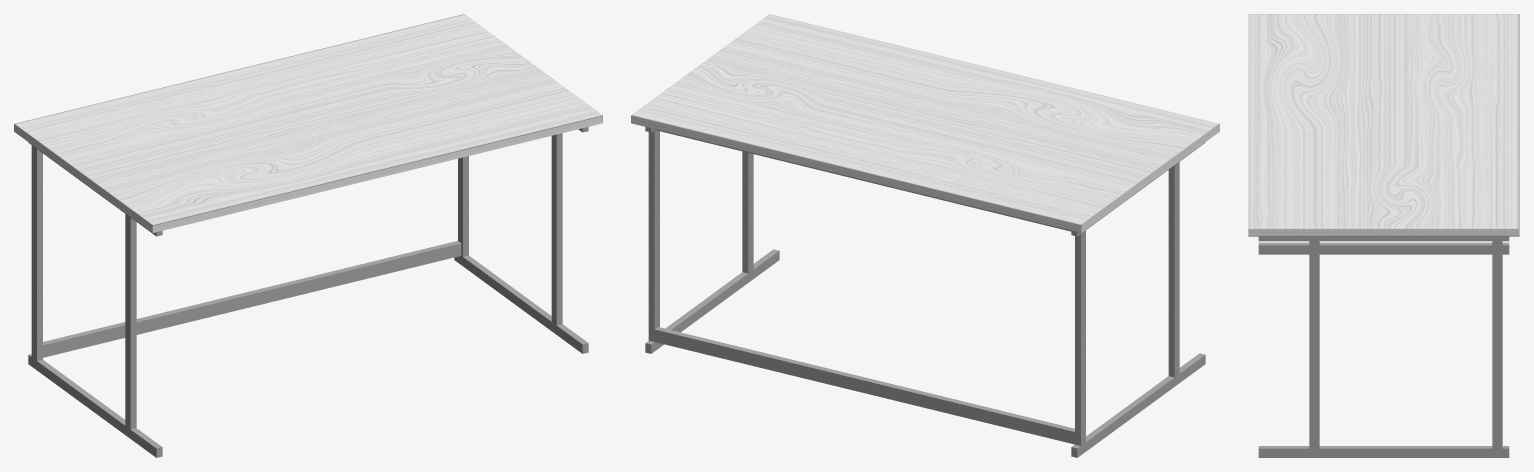
Rendered from table_150.dae.
3 views of the same model, side by side, from view 1: azimuth 30°, elevation 25°; view 2: azimuth 150°, elevation 25°; view 3: azimuth 270°, elevation 25° (orthographic). The views are drawn at different scales.
Visible parts, largest first — view 1: Stul_150 v2; view 2: Stul_150 v2; view 3: Stul_150 v2.
Boxes of the visible parts, box(x1,y1,x2,y2) form: Stul_150 v2: box(14, 14, 602, 457); Stul_150 v2: box(631, 14, 1219, 457); Stul_150 v2: box(1248, 14, 1519, 457).
Bounding box in the file's own units: 1.5 × 0.8 × 0.76.
Materials: 1 (1 with a texture image).
